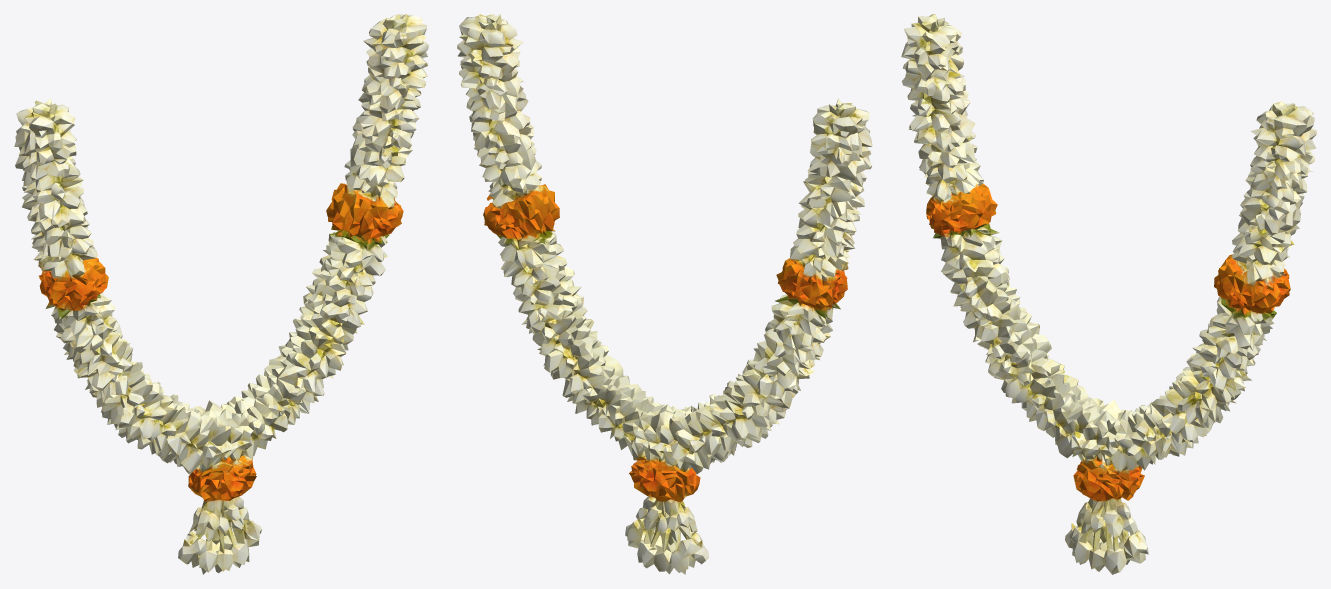
Rendered from w4garland.glb.
3 views of the same model, side by side, from view 1: azimuth 30°, elevation 25°; view 2: azimuth 150°, elevation 25°; view 3: azimuth 330°, elevation 25° (orthographic).
Visible parts, largest first — view 1: output_unwrapped; view 2: output_unwrapped; view 3: output_unwrapped.
Part boxes in pixels (bbox=[...]): output_unwrapped: bbox=[14, 14, 428, 574]; output_unwrapped: bbox=[457, 14, 872, 574]; output_unwrapped: bbox=[901, 14, 1316, 574].
Size of the model in its own units: 0.45 by 0.5421 by 0.0705.
1 material, 1 textured.
